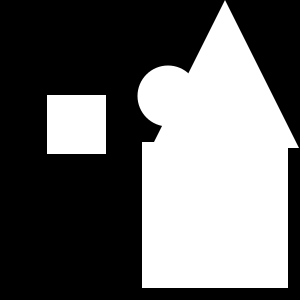circle: (142, 142, 288, 288), (47, 95, 106, 154), (243, 224, 286, 267)
rectangle: (138, 66, 199, 126)
triangle: (151, 0, 299, 148)
